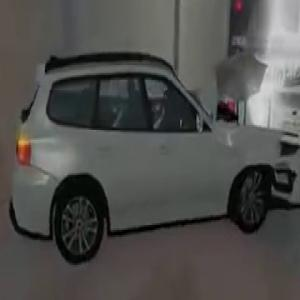fatal: (4, 0, 300, 270)
